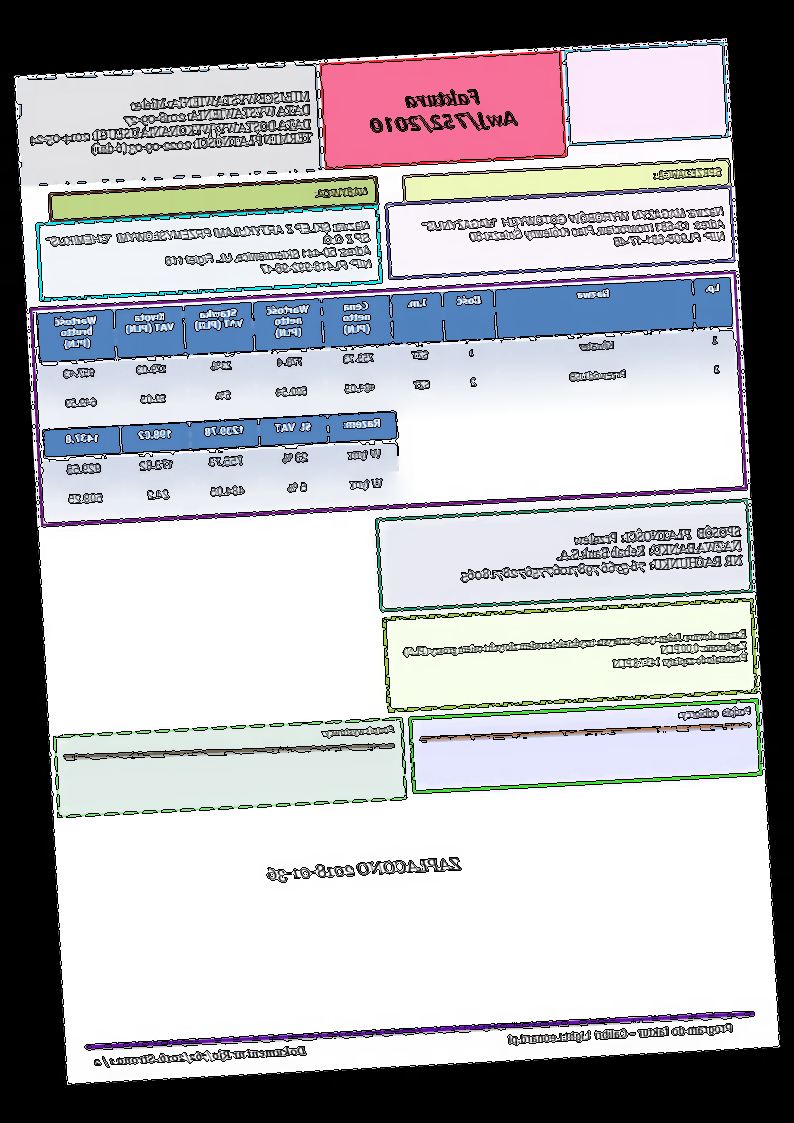Table: (36, 276, 738, 426), (41, 409, 403, 521)
TextBox: (44, 216, 375, 287), (26, 86, 314, 162), (400, 627, 749, 683), (458, 519, 744, 586), (419, 202, 727, 260), (364, 82, 521, 139), (505, 1018, 736, 1048), (261, 852, 466, 884), (91, 1041, 308, 1071), (676, 700, 753, 722), (651, 162, 725, 183), (323, 721, 398, 740), (313, 181, 372, 200)
